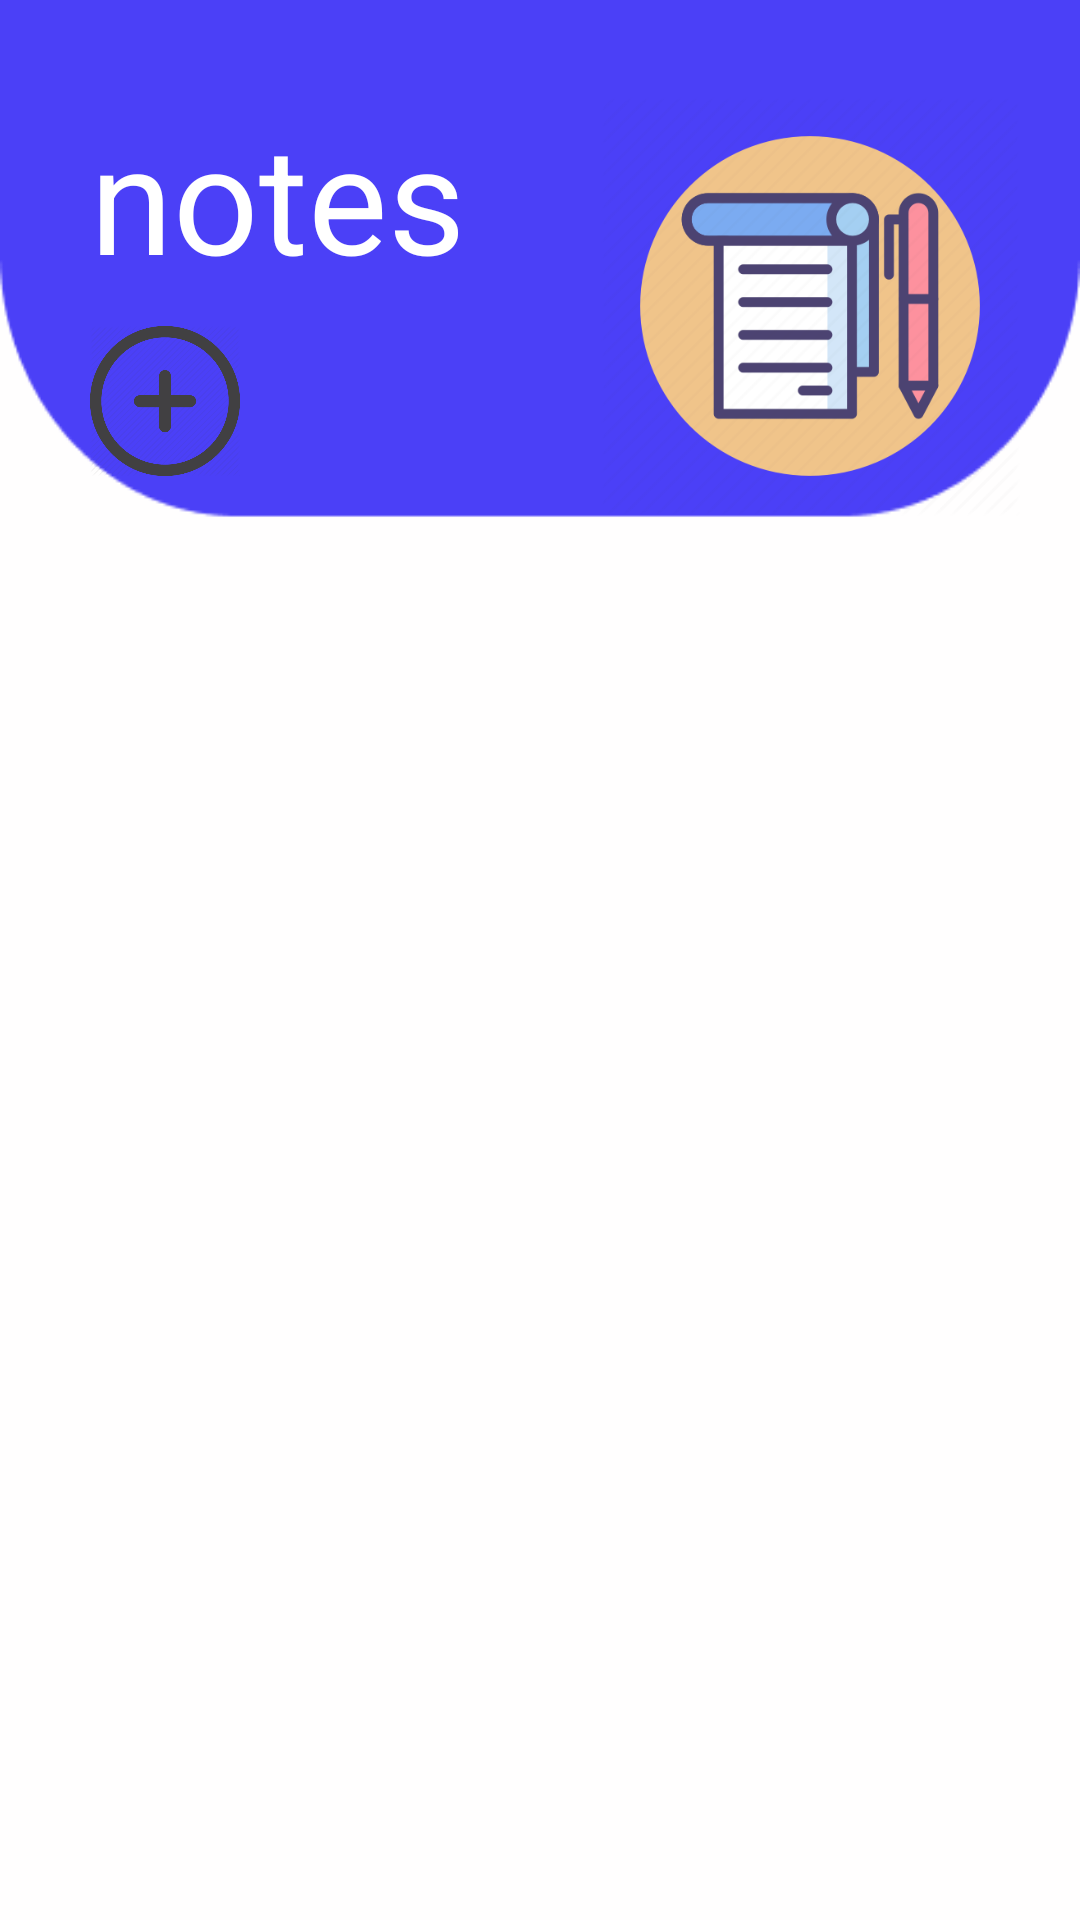

Icons on this 1080x1920 Android screen, each with the point to tap as point (x, y):
addicon: point (165, 401)
